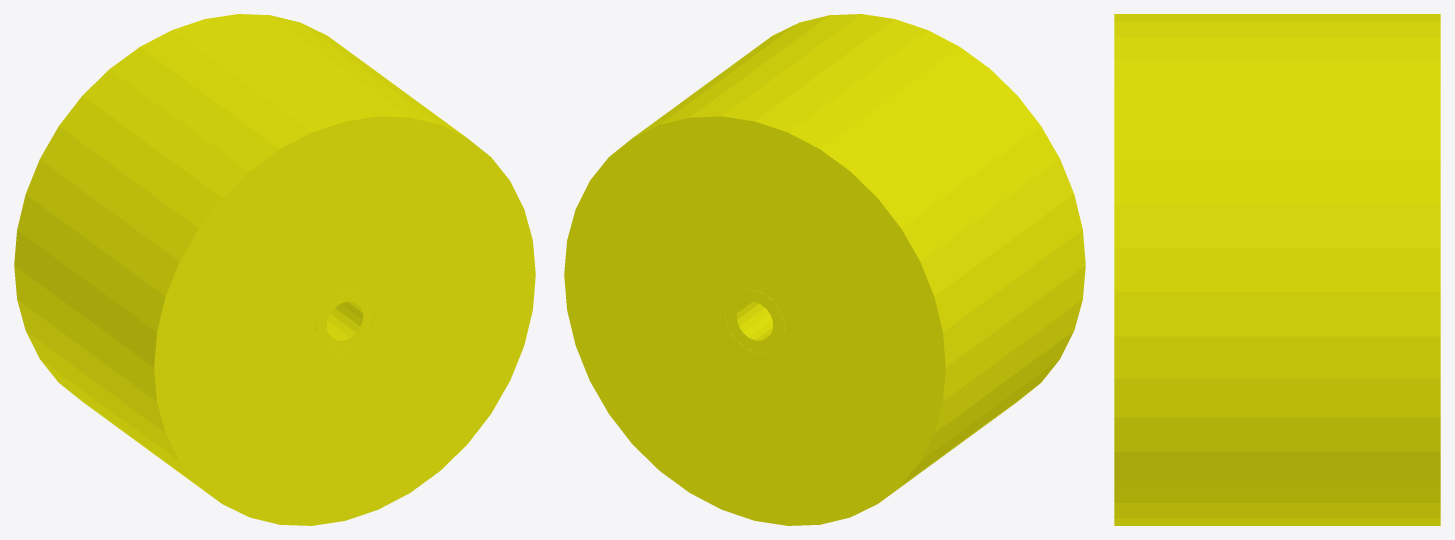
File: HcalForwardMinus3D_V1.glb
3 renders of one model, left to right at view 1: azimuth 30°, elevation 25°; view 2: azimuth 150°, elevation 25°; view 3: azimuth 270°, elevation 25°, orthographic. The views are drawn at different scales.
Parts seen in each view (by area): view 1: HcalForwardMinus3D_V1; view 2: HcalForwardMinus3D_V1; view 3: HcalForwardMinus3D_V1.
Part boxes in pixels (bbox=[...]): HcalForwardMinus3D_V1: bbox=[14, 14, 535, 525]; HcalForwardMinus3D_V1: bbox=[564, 14, 1085, 525]; HcalForwardMinus3D_V1: bbox=[1114, 14, 1440, 525].
Size of the model in its own units: 2.6 by 2.6 by 1.65.
